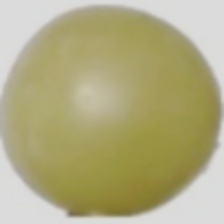grapes: (11, 32, 186, 167)
